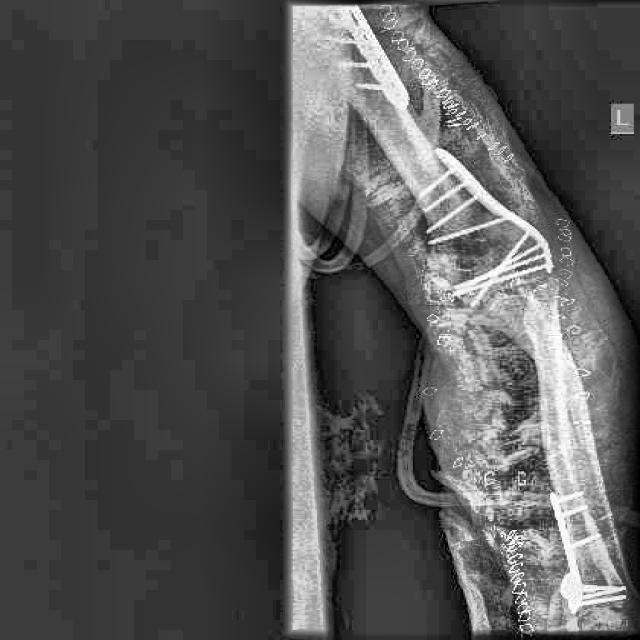elbow positive: (409, 220, 516, 315)
